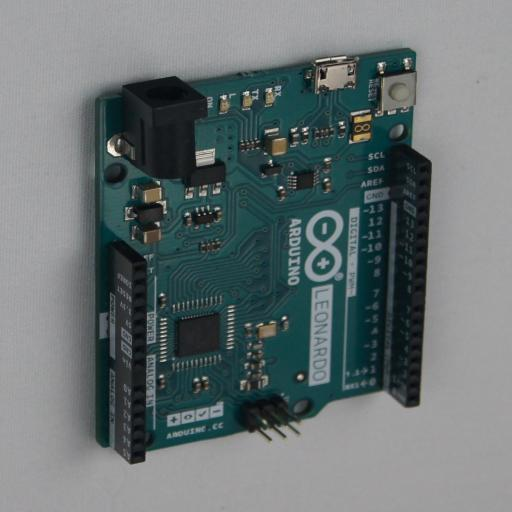Arduino Leonardo: (80, 48, 432, 464)
